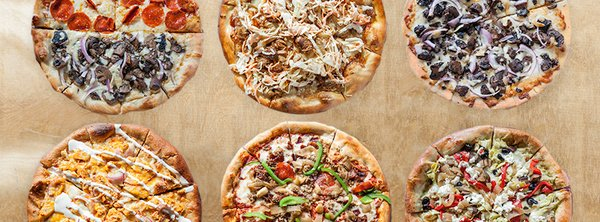curry: (1, 0, 578, 219)
sandwich: (30, 0, 204, 115), (218, 0, 387, 114), (402, 0, 572, 108), (26, 122, 201, 218), (404, 125, 572, 218), (223, 127, 391, 220)
